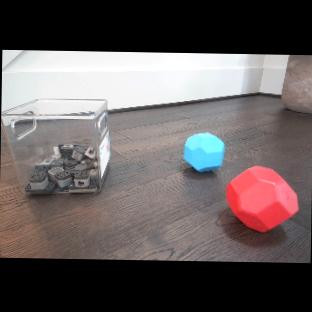V5_BLUE: (183, 131, 225, 172)
V5_RED: (224, 165, 300, 233)
